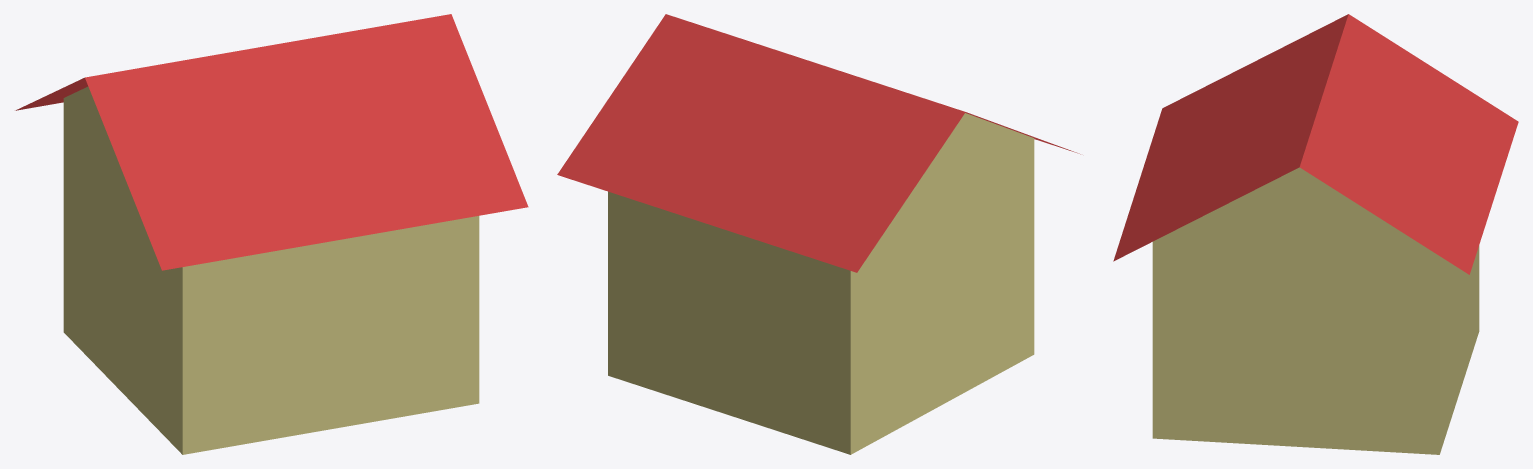
3 renders of one model, left to right at view 1: azimuth 30°, elevation 25°; view 2: azimuth 150°, elevation 25°; view 3: azimuth 270°, elevation 25°, orthographic. The views are drawn at different scales.
Bounding box in the file's own units: 11.78 × 11.62 × 9.31.
